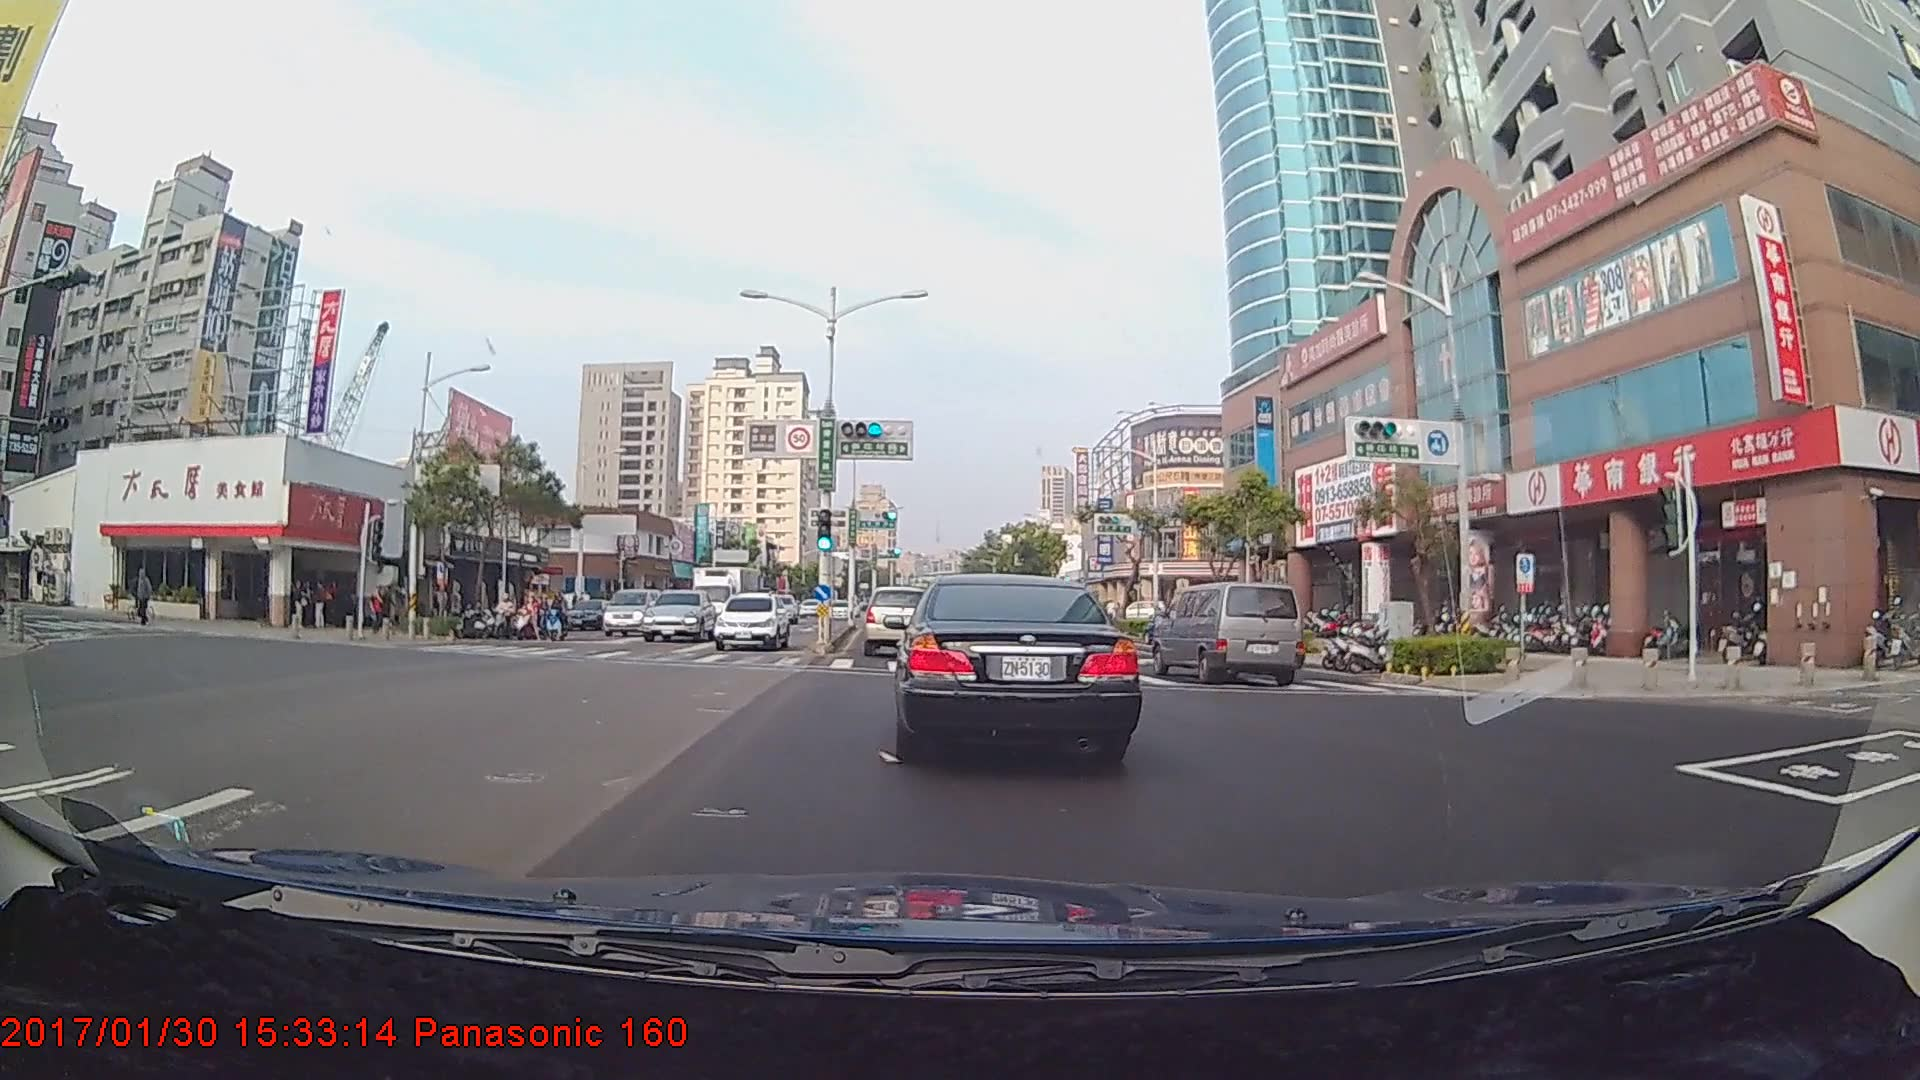pedestrian: (132, 568, 157, 627), (289, 578, 311, 633), (366, 584, 389, 636), (311, 580, 331, 631)
vehicle: (891, 568, 1135, 763), (1154, 580, 1305, 686), (692, 562, 768, 636), (862, 583, 935, 655), (712, 591, 792, 651), (639, 588, 718, 643), (597, 585, 660, 638)
